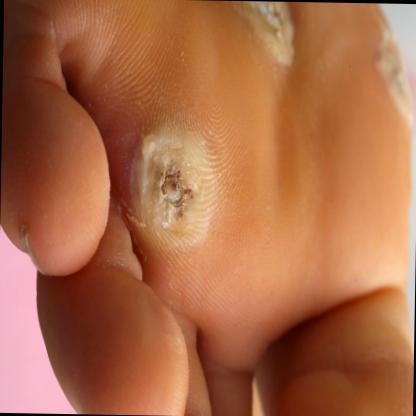Warts: (126, 122, 220, 254)
